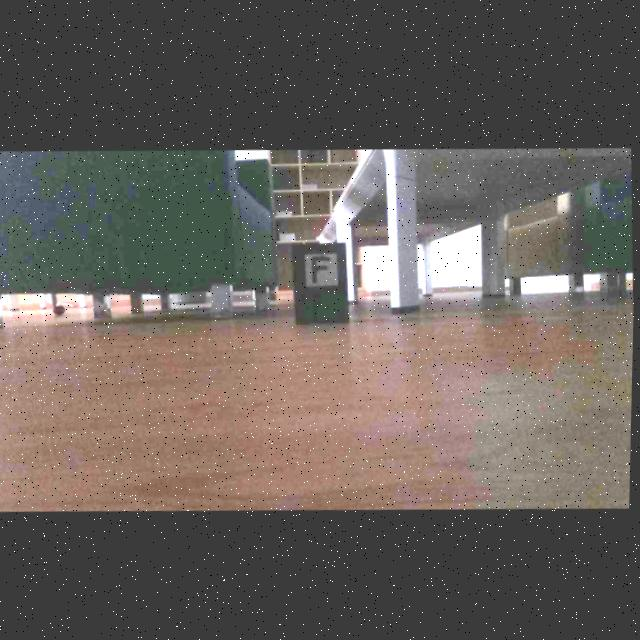F: (313, 254, 329, 281)
